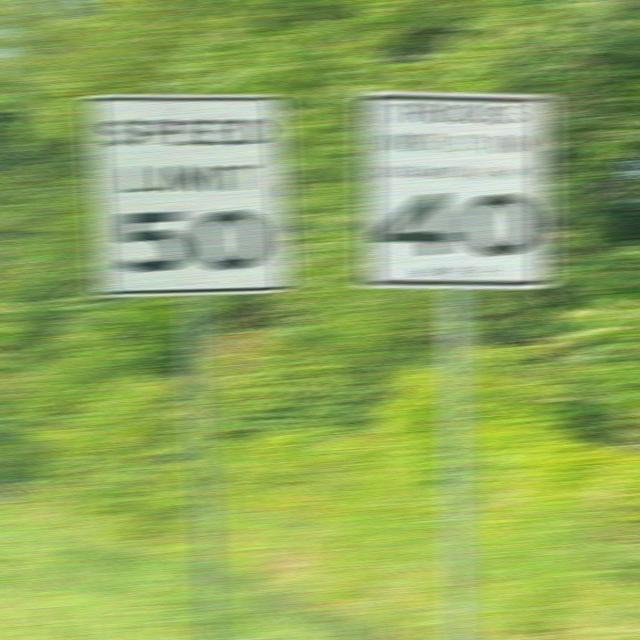speedLimit50: (76, 89, 292, 291)
